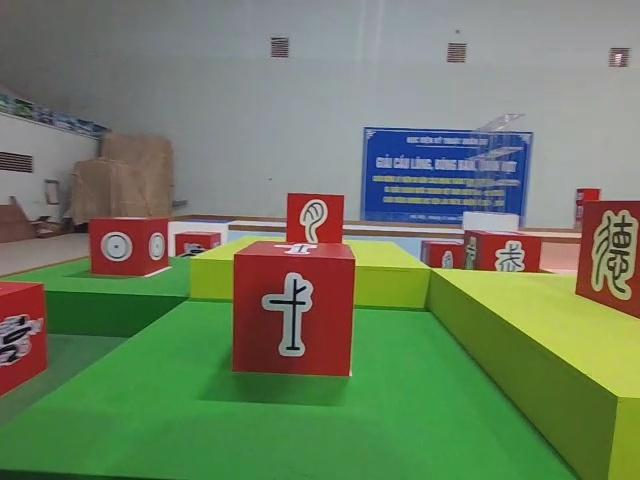R1: (0, 281, 47, 404), (173, 229, 222, 266)
R2 Fake: (574, 200, 640, 319), (459, 227, 541, 285), (287, 194, 344, 256)
R2 Real: (233, 239, 353, 375), (89, 219, 167, 279)
